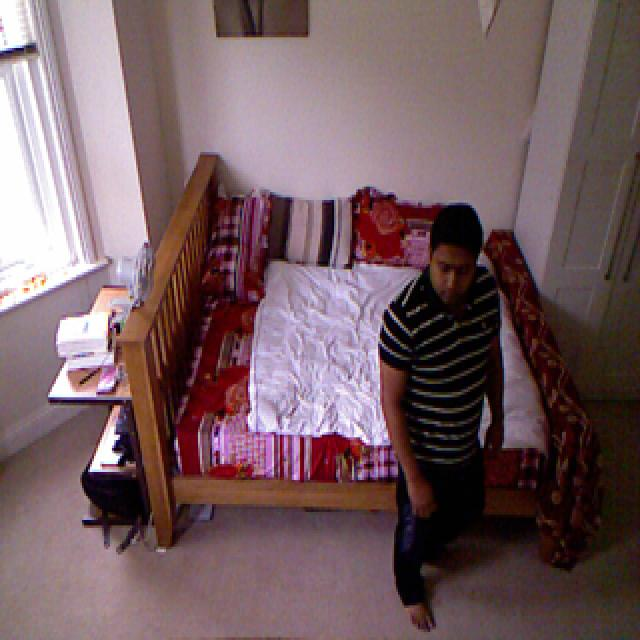standing: (378, 188, 506, 624)
